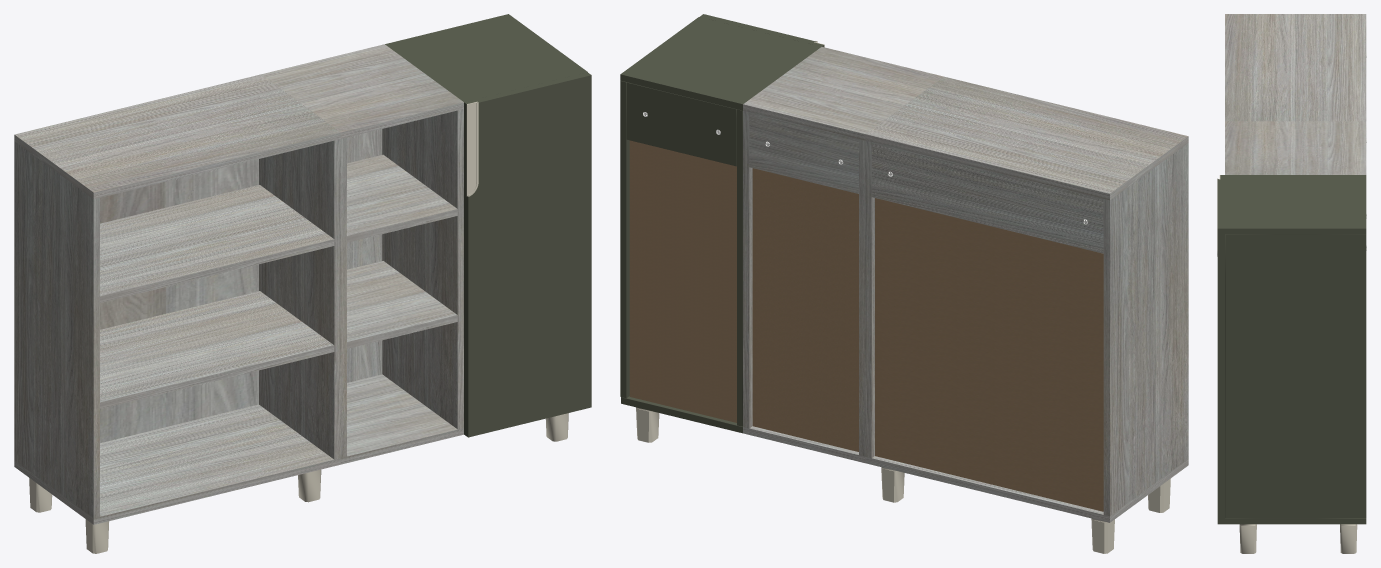
The picture shows the model from 3 angles, left to right: view 1: azimuth 30°, elevation 25°; view 2: azimuth 150°, elevation 25°; view 3: azimuth 270°, elevation 25°; orthographic projection. The views are drawn at different scales.
Visible parts, largest first — view 1: Cube.002, Cube.003, Cube.001, group_0.115; view 2: Cube.002, Cube.001, group_0.090, Cube.003, group_0.115; view 3: Cube.003, Cube.002, Cube.001, group_0.115.
Boxes of the visible parts, x1=… form: Cube.002: x1=14, y1=74, x2=340, y2=524; Cube.003: x1=385, y1=14, x2=591, y2=437; Cube.001: x1=261, y1=44, x2=463, y2=464; group_0.115: x1=29, y1=101, x2=568, y2=553; Cube.002: x1=865, y1=76, x2=1188, y2=522; Cube.001: x1=743, y1=47, x2=943, y2=462; group_0.090: x1=629, y1=140, x2=736, y2=422; Cube.003: x1=620, y1=14, x2=824, y2=433; group_0.115: x1=636, y1=41, x2=1170, y2=553; Cube.003: x1=1217, y1=175, x2=1366, y2=524; Cube.002: x1=1225, y1=14, x2=1366, y2=121; Cube.001: x1=1225, y1=121, x2=1366, y2=174; group_0.115: x1=1217, y1=175, x2=1357, y2=553.
Bounding box in the file's own units: 1.4 × 1 × 0.4114.
5 materials, 2 textured.
